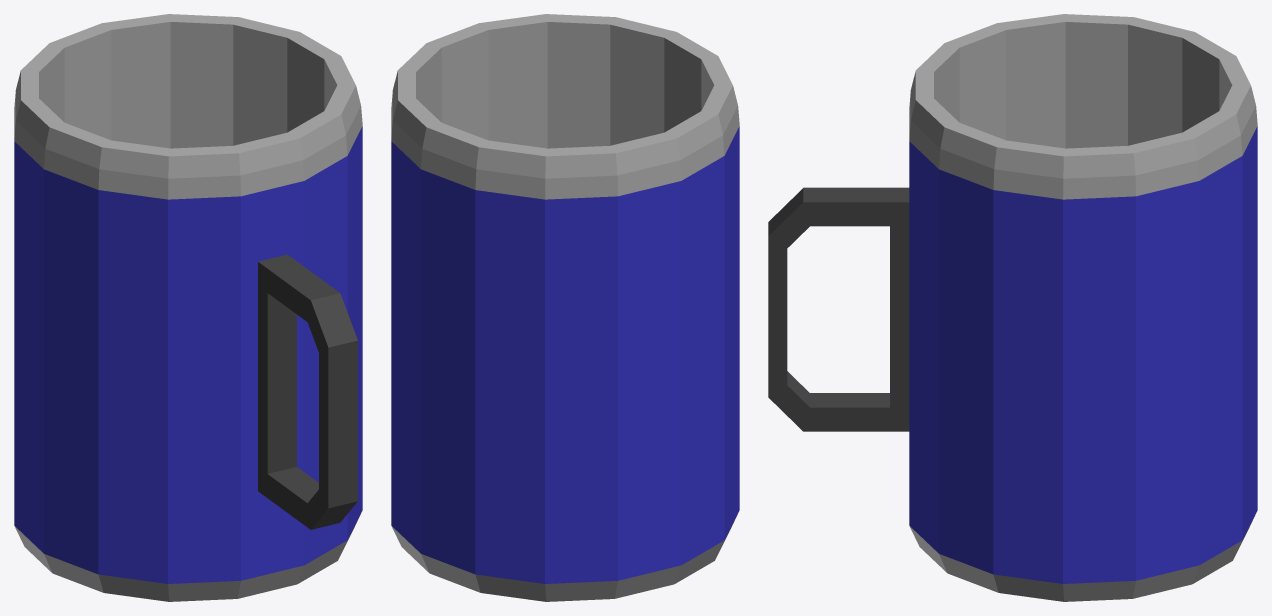
The model's file is 006. Prop Cup.fbx.
3 renders of one model, left to right at view 1: azimuth 30°, elevation 25°; view 2: azimuth 150°, elevation 25°; view 3: azimuth 270°, elevation 25°, orthographic.
Parts seen in each view (by area): view 1: Cylinder; view 2: Cylinder; view 3: Cylinder.
Part boxes in pixels (<box>): Cylinder: <box>14,14,362,601</box>; Cylinder: <box>391,14,739,601</box>; Cylinder: <box>768,14,1257,601</box>.
Bounding box in the file's own units: 119 × 168 × 167.
